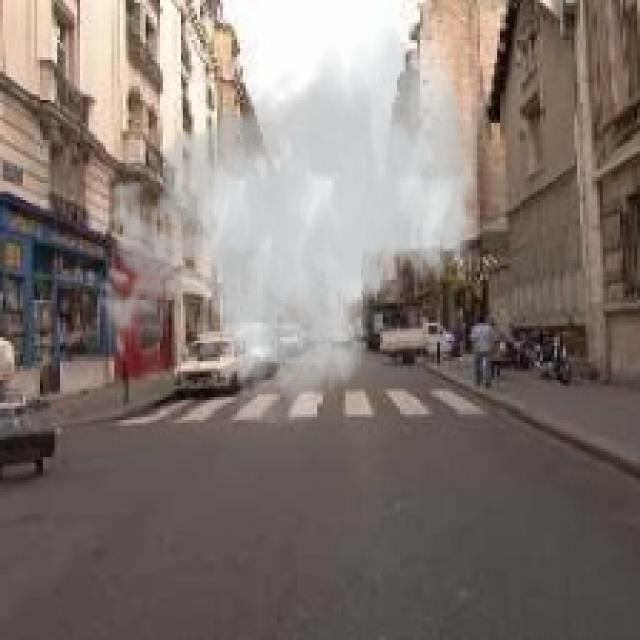Smoke: (86, 3, 477, 423)
